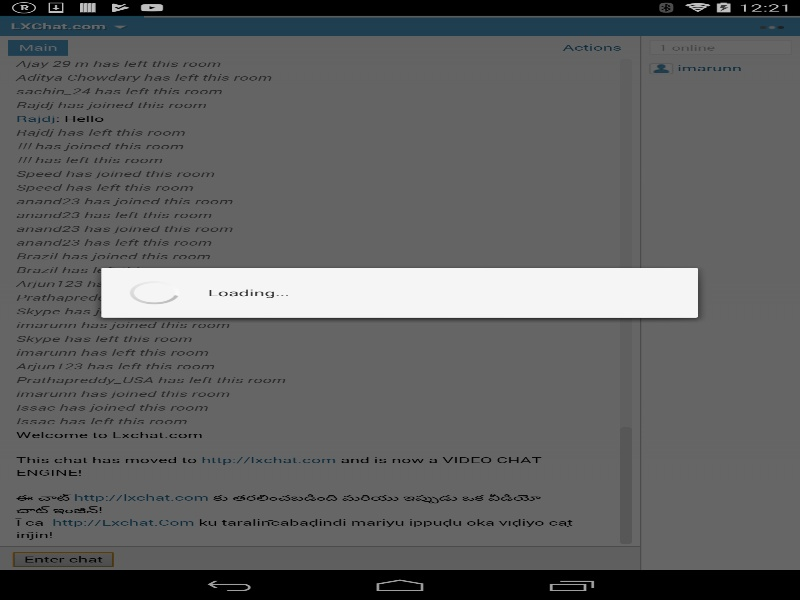Button: (0, 15, 137, 34), (13, 550, 113, 565)
Input: (650, 38, 790, 52)
